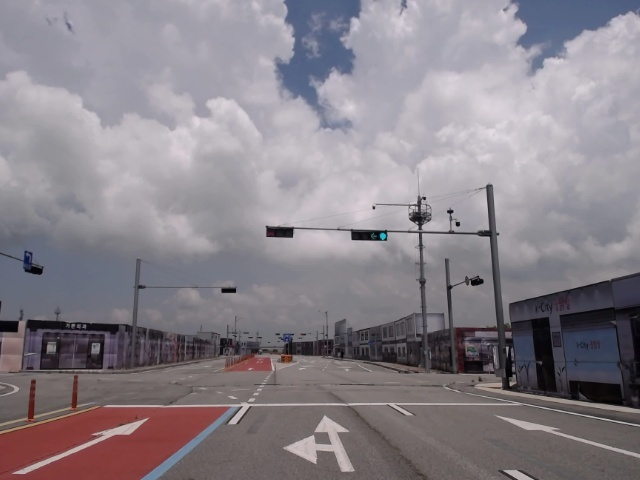all_green_4: (351, 228, 387, 242)
